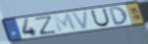4: (22, 17, 39, 37)
D: (108, 6, 129, 26)
M: (52, 12, 78, 33)
U: (90, 7, 111, 28)
V: (70, 9, 90, 31)
Z: (34, 14, 59, 36)
